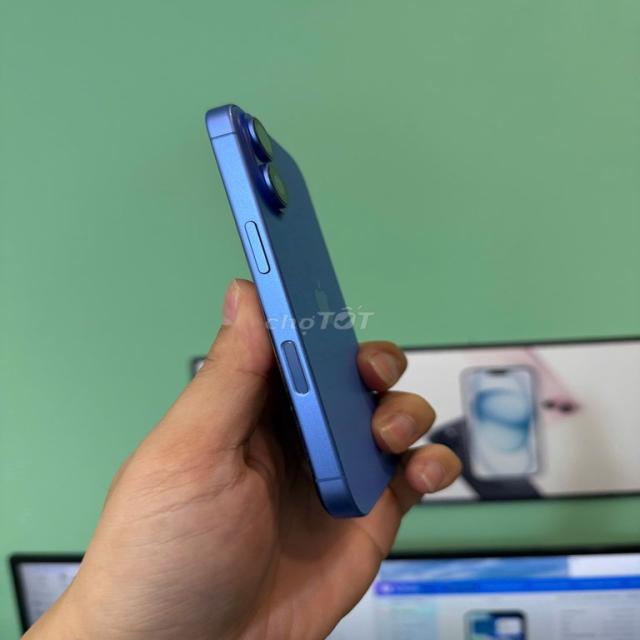gen_16: (206, 104, 395, 518)
